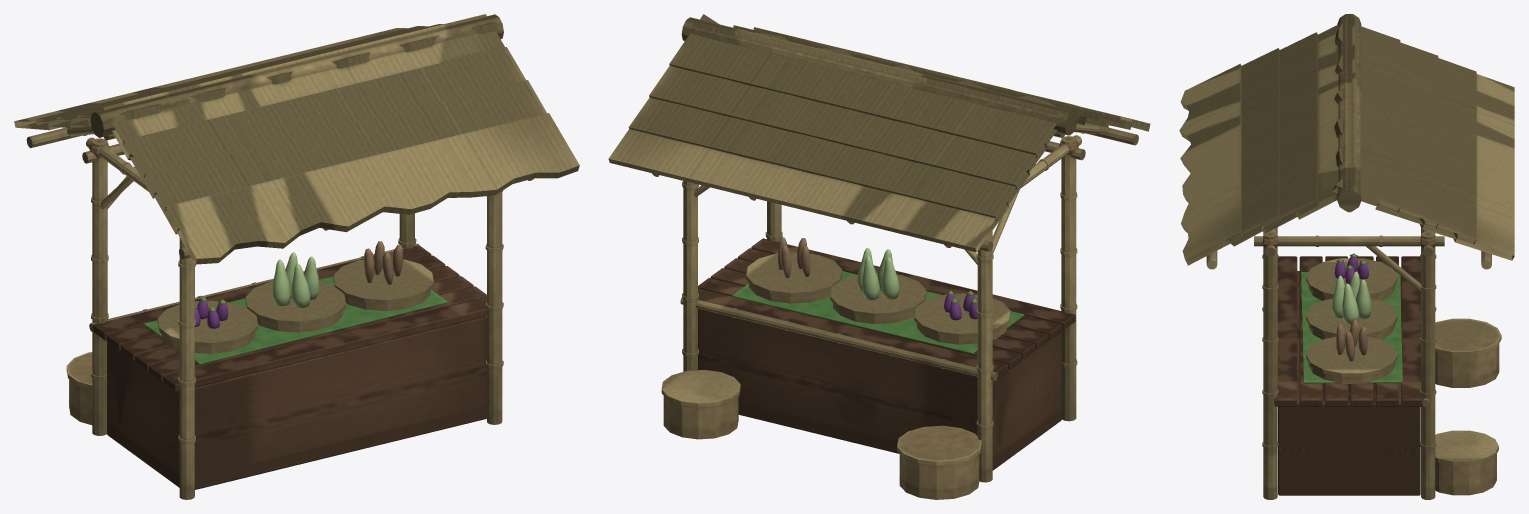
The model's file is market_stall_vegetables.glb.
3 renders of one model, left to right at view 1: azimuth 30°, elevation 25°; view 2: azimuth 150°, elevation 25°; view 3: azimuth 270°, elevation 25°, orthographic. The views are drawn at different scales.
Visible parts, largest first — view 1: Counter_Base.003, Ola_Back_0.003, Ola_Back_1.003, Ola_Back_2.003, Ola_Back_3.003, Counter_Plank_0.003, Ola_Ridge_Cap.003, Bamboo_Pillar_2.003, Bamboo_Pillar_0.003, Bamboo_Pillar_1.003, Veg_Tray_tapioca_Rim, Veg_Leaf_Mat (+17 smaller); view 2: Counter_Base.003, Ola_Front_0.003, Ola_Front_3.003, Ola_Front_1.003, Ola_Front_2.003, Ola_Ridge_Cap.003, Ground_Veg_Kooda_L_Body, Bamboo_Pillar_0.003, Counter_Plank_5.003, Bamboo_Pillar_2.003, Veg_Tray_tapioca_Rim, Veg_Leaf_Mat (+17 smaller); view 3: Counter_Base.003, Ola_Back_0.003, Ola_Front_3.003, Ola_Front_0.003, Ola_Front_1.003, Ola_Front_2.003, Ola_Back_1.003, Ola_Back_2.003, Ola_Back_3.003, Bamboo_Pillar_1.003, Bamboo_Pillar_3.003, Ola_Ridge_Cap.003 (+20 smaller).
Boxes of the visible parts, x1,y1,x2,y2 form: Counter_Base.003: (107,316,486,489); Ola_Back_0.003: (164,113,579,264); Ola_Back_1.003: (143,80,546,234); Ola_Back_2.003: (122,47,525,198); Ola_Back_3.003: (102,14,504,160); Counter_Plank_0.003: (163,297,486,391); Ola_Ridge_Cap.003: (90,14,503,137); Bamboo_Pillar_2.003: (92,138,107,435); Bamboo_Pillar_0.003: (179,238,194,499); Bamboo_Pillar_1.003: (487,192,502,424); Veg_Tray_tapioca_Rim: (333,258,433,304); Veg_Leaf_Mat: (143,276,447,364); Counter_Base.003: (698,308,1061,470); Ola_Front_0.003: (608,129,1008,252); Ola_Front_3.003: (669,14,1057,157); Ola_Front_1.003: (628,97,1029,220); Ola_Front_2.003: (649,66,1046,188); Ola_Ridge_Cap.003: (681,17,1077,135); Ground_Veg_Kooda_L_Body: (899,428,979,499); Bamboo_Pillar_0.003: (1061,136,1076,421); Counter_Plank_5.003: (698,288,1008,378); Bamboo_Pillar_2.003: (977,231,992,482); Veg_Tray_tapioca_Rim: (746,252,842,296); Veg_Leaf_Mat: (732,271,1024,353); Counter_Base.003: (1278,271,1420,495); Ola_Back_0.003: (1179,63,1242,265); Ola_Front_3.003: (1332,24,1400,213); Ola_Front_0.003: (1453,74,1514,260); Ola_Front_1.003: (1419,58,1476,244); Ola_Front_2.003: (1375,42,1438,228); Ola_Back_1.003: (1227,48,1280,246); Ola_Back_2.003: (1261,32,1319,233); Ola_Back_3.003: (1296,16,1356,219); Bamboo_Pillar_1.003: (1263,231,1277,499); Bamboo_Pillar_3.003: (1421,231,1435,499); Ola_Ridge_Cap.003: (1337,14,1361,210).
Bounding box in the file's own units: 3.28 × 2.85 × 2.64.
1 material, 1 textured.
